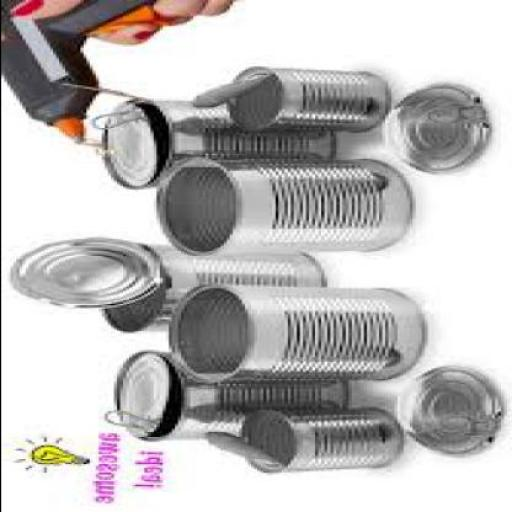metal: (164, 283, 426, 380), (150, 154, 412, 251), (103, 346, 347, 440), (98, 95, 332, 188), (104, 246, 323, 329), (6, 236, 159, 307), (232, 68, 387, 135), (238, 406, 400, 470), (378, 86, 487, 174), (393, 367, 497, 455), (100, 351, 164, 435), (98, 103, 152, 184), (201, 430, 284, 465), (189, 70, 268, 106), (54, 79, 156, 98)
